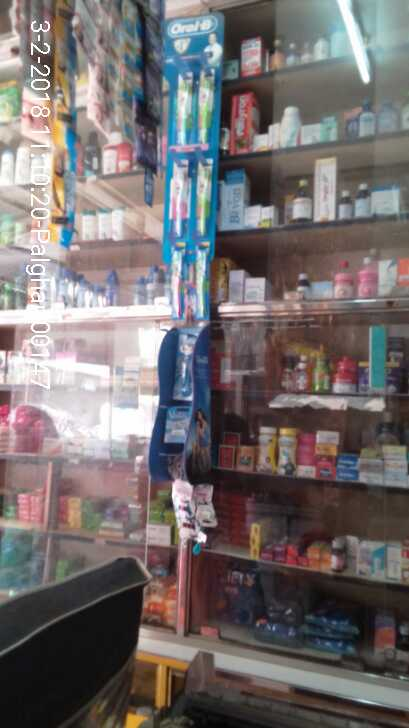beauty: (172, 334, 194, 402), (162, 411, 187, 446)
pharmacy: (170, 157, 189, 245), (189, 246, 208, 323), (194, 157, 211, 237), (176, 68, 190, 147), (175, 244, 189, 319), (199, 68, 210, 148)
